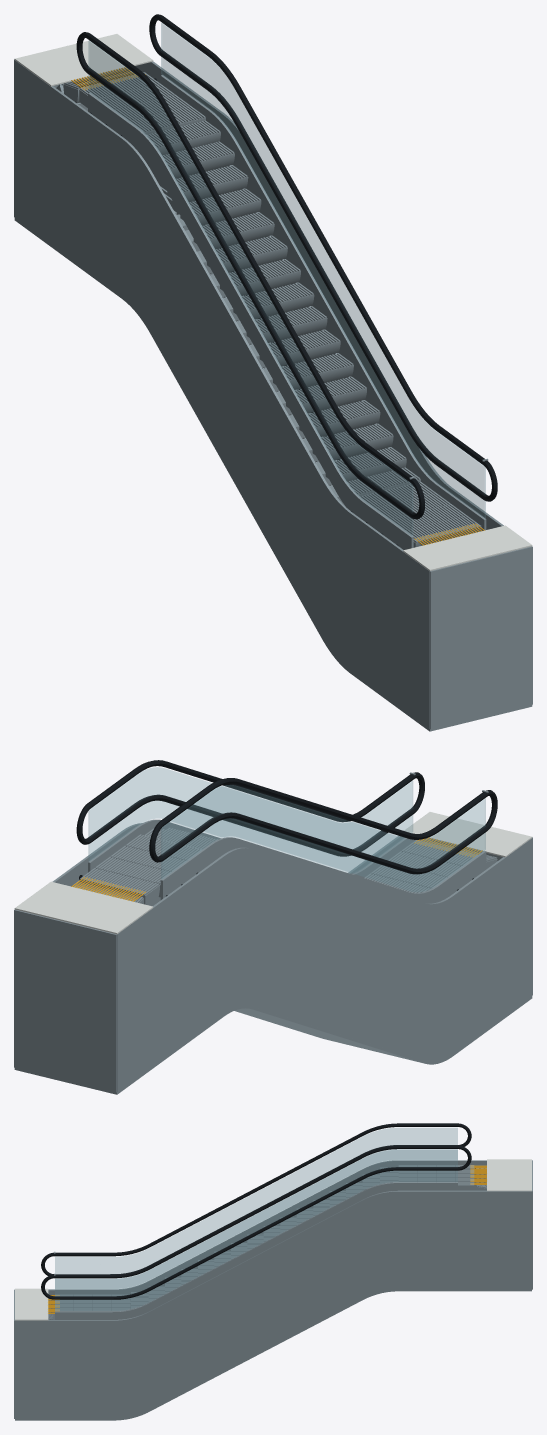
Rendered from edited.glb.
3 views of the same model, one above another, from view 1: azimuth 30°, elevation 25°; view 2: azimuth 150°, elevation 25°; view 3: azimuth 270°, elevation 25° (orthographic). The views are drawn at different scales.
Parts seen in each view (by area): view 1: TRUSS_L, TRUSS_End_Lower, GUARD_L, GUARD_R, SKIRT_L, HANDRAIL_R, HANDRAIL_L, SKIRT_R, TRUSS_R, LANDING_Upper, LANDING_Lower, TRUSS_Bottom (+20 smaller); view 2: TRUSS_L, TRUSS_End_Upper, GUARD_L, GUARD_R, HANDRAIL_L, HANDRAIL_R, SKIRT_L, LANDING_Upper, TRUSS_Bottom, LANDING_Lower, SKIRT_R, STEP_BODY_23 (+10 smaller); view 3: TRUSS_R, GUARD_R, GUARD_L, HANDRAIL_R, SKIRT_R, SKIRT_L, HANDRAIL_L, LANDING_Upper, TRUSS_Bottom, LANDING_Lower, STEP_BODY_23.
Boxes of the visible parts, x1,y1,x2,y2 form: TRUSS_L: (14, 60, 429, 728); TRUSS_End_Lower: (430, 546, 532, 729); GUARD_L: (88, 41, 412, 535); GUARD_R: (161, 23, 485, 517); SKIRT_L: (88, 93, 413, 549); HANDRAIL_R: (149, 14, 497, 501); HANDRAIL_L: (76, 32, 424, 519); SKIRT_R: (160, 75, 486, 530); TRUSS_R: (135, 61, 503, 529); LANDING_Upper: (14, 34, 153, 86); LANDING_Lower: (403, 525, 532, 570); TRUSS_Bottom: (14, 218, 532, 731); TRUSS_L: (117, 838, 532, 1091); TRUSS_End_Upper: (14, 909, 116, 1092); GUARD_L: (161, 785, 485, 891); GUARD_R: (88, 767, 412, 873); HANDRAIL_L: (149, 778, 497, 874); HANDRAIL_R: (76, 760, 424, 856); SKIRT_L: (160, 837, 486, 903); LANDING_Upper: (14, 881, 153, 934); TRUSS_Bottom: (14, 996, 532, 1094); LANDING_Lower: (404, 812, 532, 857); SKIRT_R: (88, 819, 413, 877); STEP_BODY_23: (79, 868, 160, 905); TRUSS_R: (15, 1190, 531, 1418); GUARD_R: (55, 1150, 457, 1310); GUARD_L: (55, 1128, 457, 1288); HANDRAIL_R: (41, 1145, 471, 1299); SKIRT_R: (55, 1182, 457, 1319); SKIRT_L: (55, 1160, 457, 1303); HANDRAIL_L: (41, 1123, 471, 1275); LANDING_Upper: (487, 1159, 531, 1191); TRUSS_Bottom: (15, 1289, 531, 1420); LANDING_Lower: (15, 1288, 48, 1320); STEP_BODY_23: (455, 1165, 474, 1190).
Bounding box in the file's own units: 1.55 × 6.28 × 10.92.
